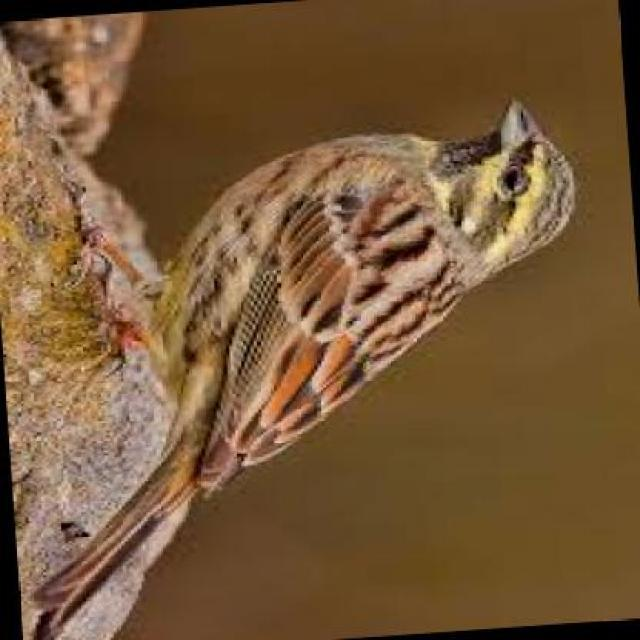Bird: (28, 94, 581, 634)
